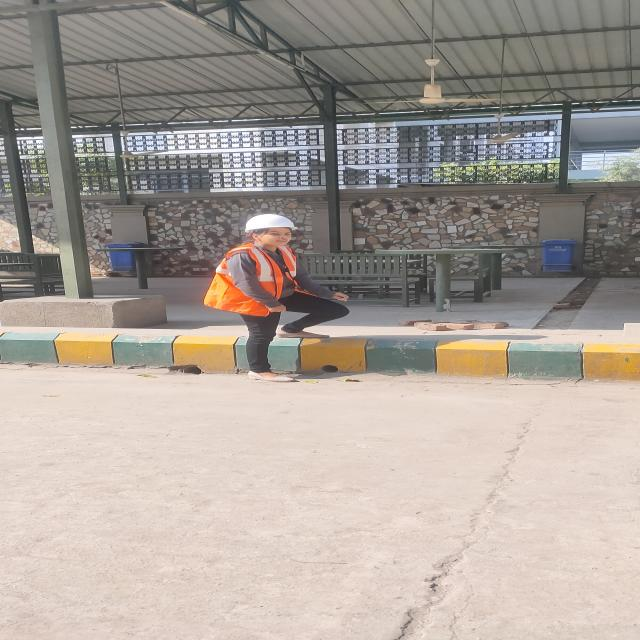safe: (203, 214, 318, 382)
